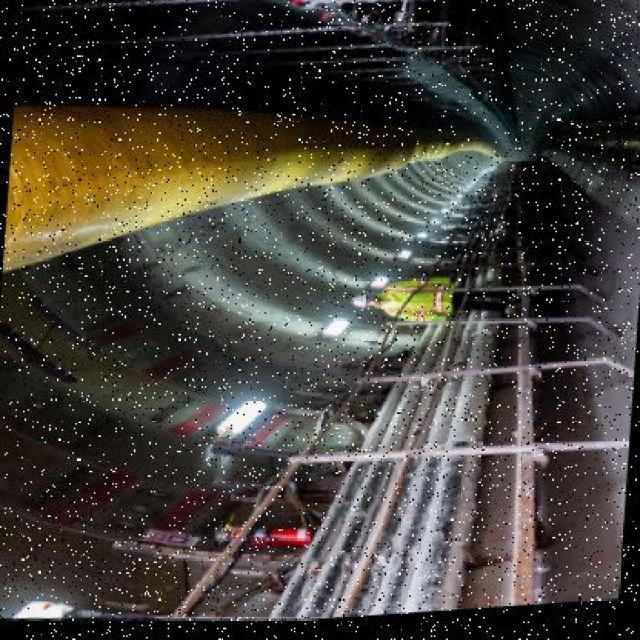helmet: (353, 297, 382, 315)
vest: (379, 277, 467, 329)
